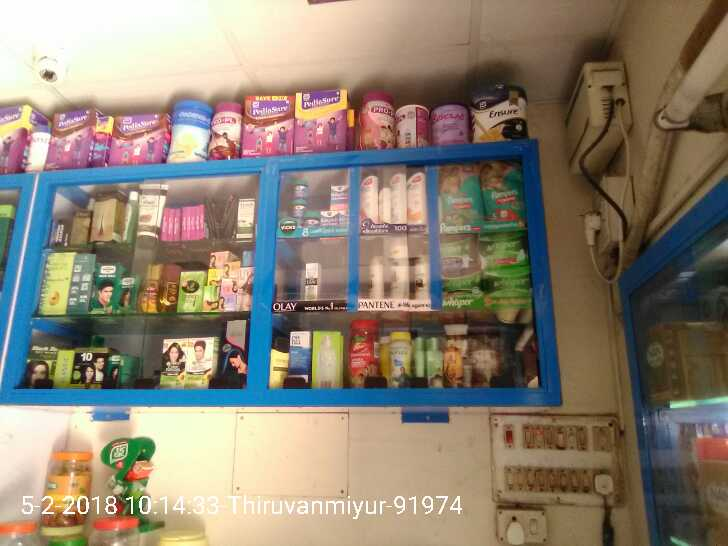vicks: (291, 178, 351, 229)
